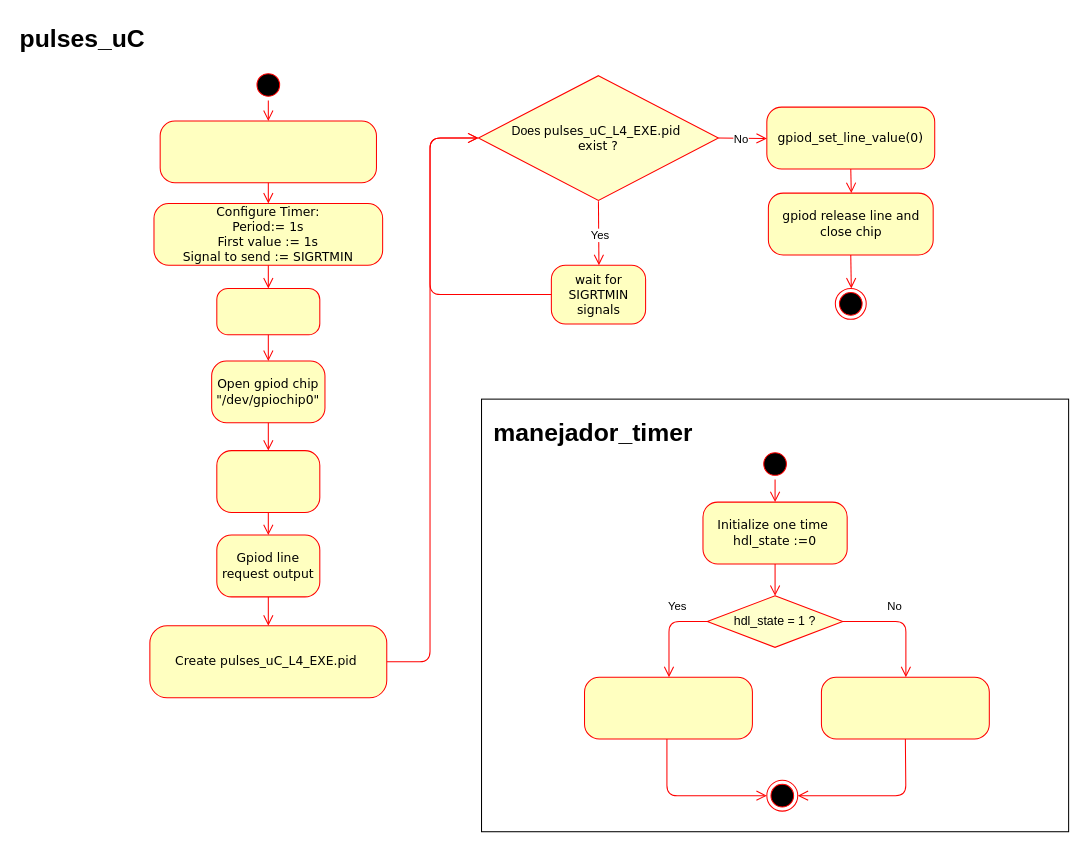
This 1087x850 diagram has some shape labels left out. Here are the shapes that lost their labels. From the top down, the centre of each, then its label:
(x=267, y=151): Configure signal SIGRTMIN handler: handler := manejador_timer
(x=268, y=311): Start Timer
(x=268, y=481): Get gpiod line 35
(x=667, y=707): gpiod_set_line_value(0) hdl_state := 0
(x=904, y=707): gpiod_set_line_value(1) hdl_state := 1
